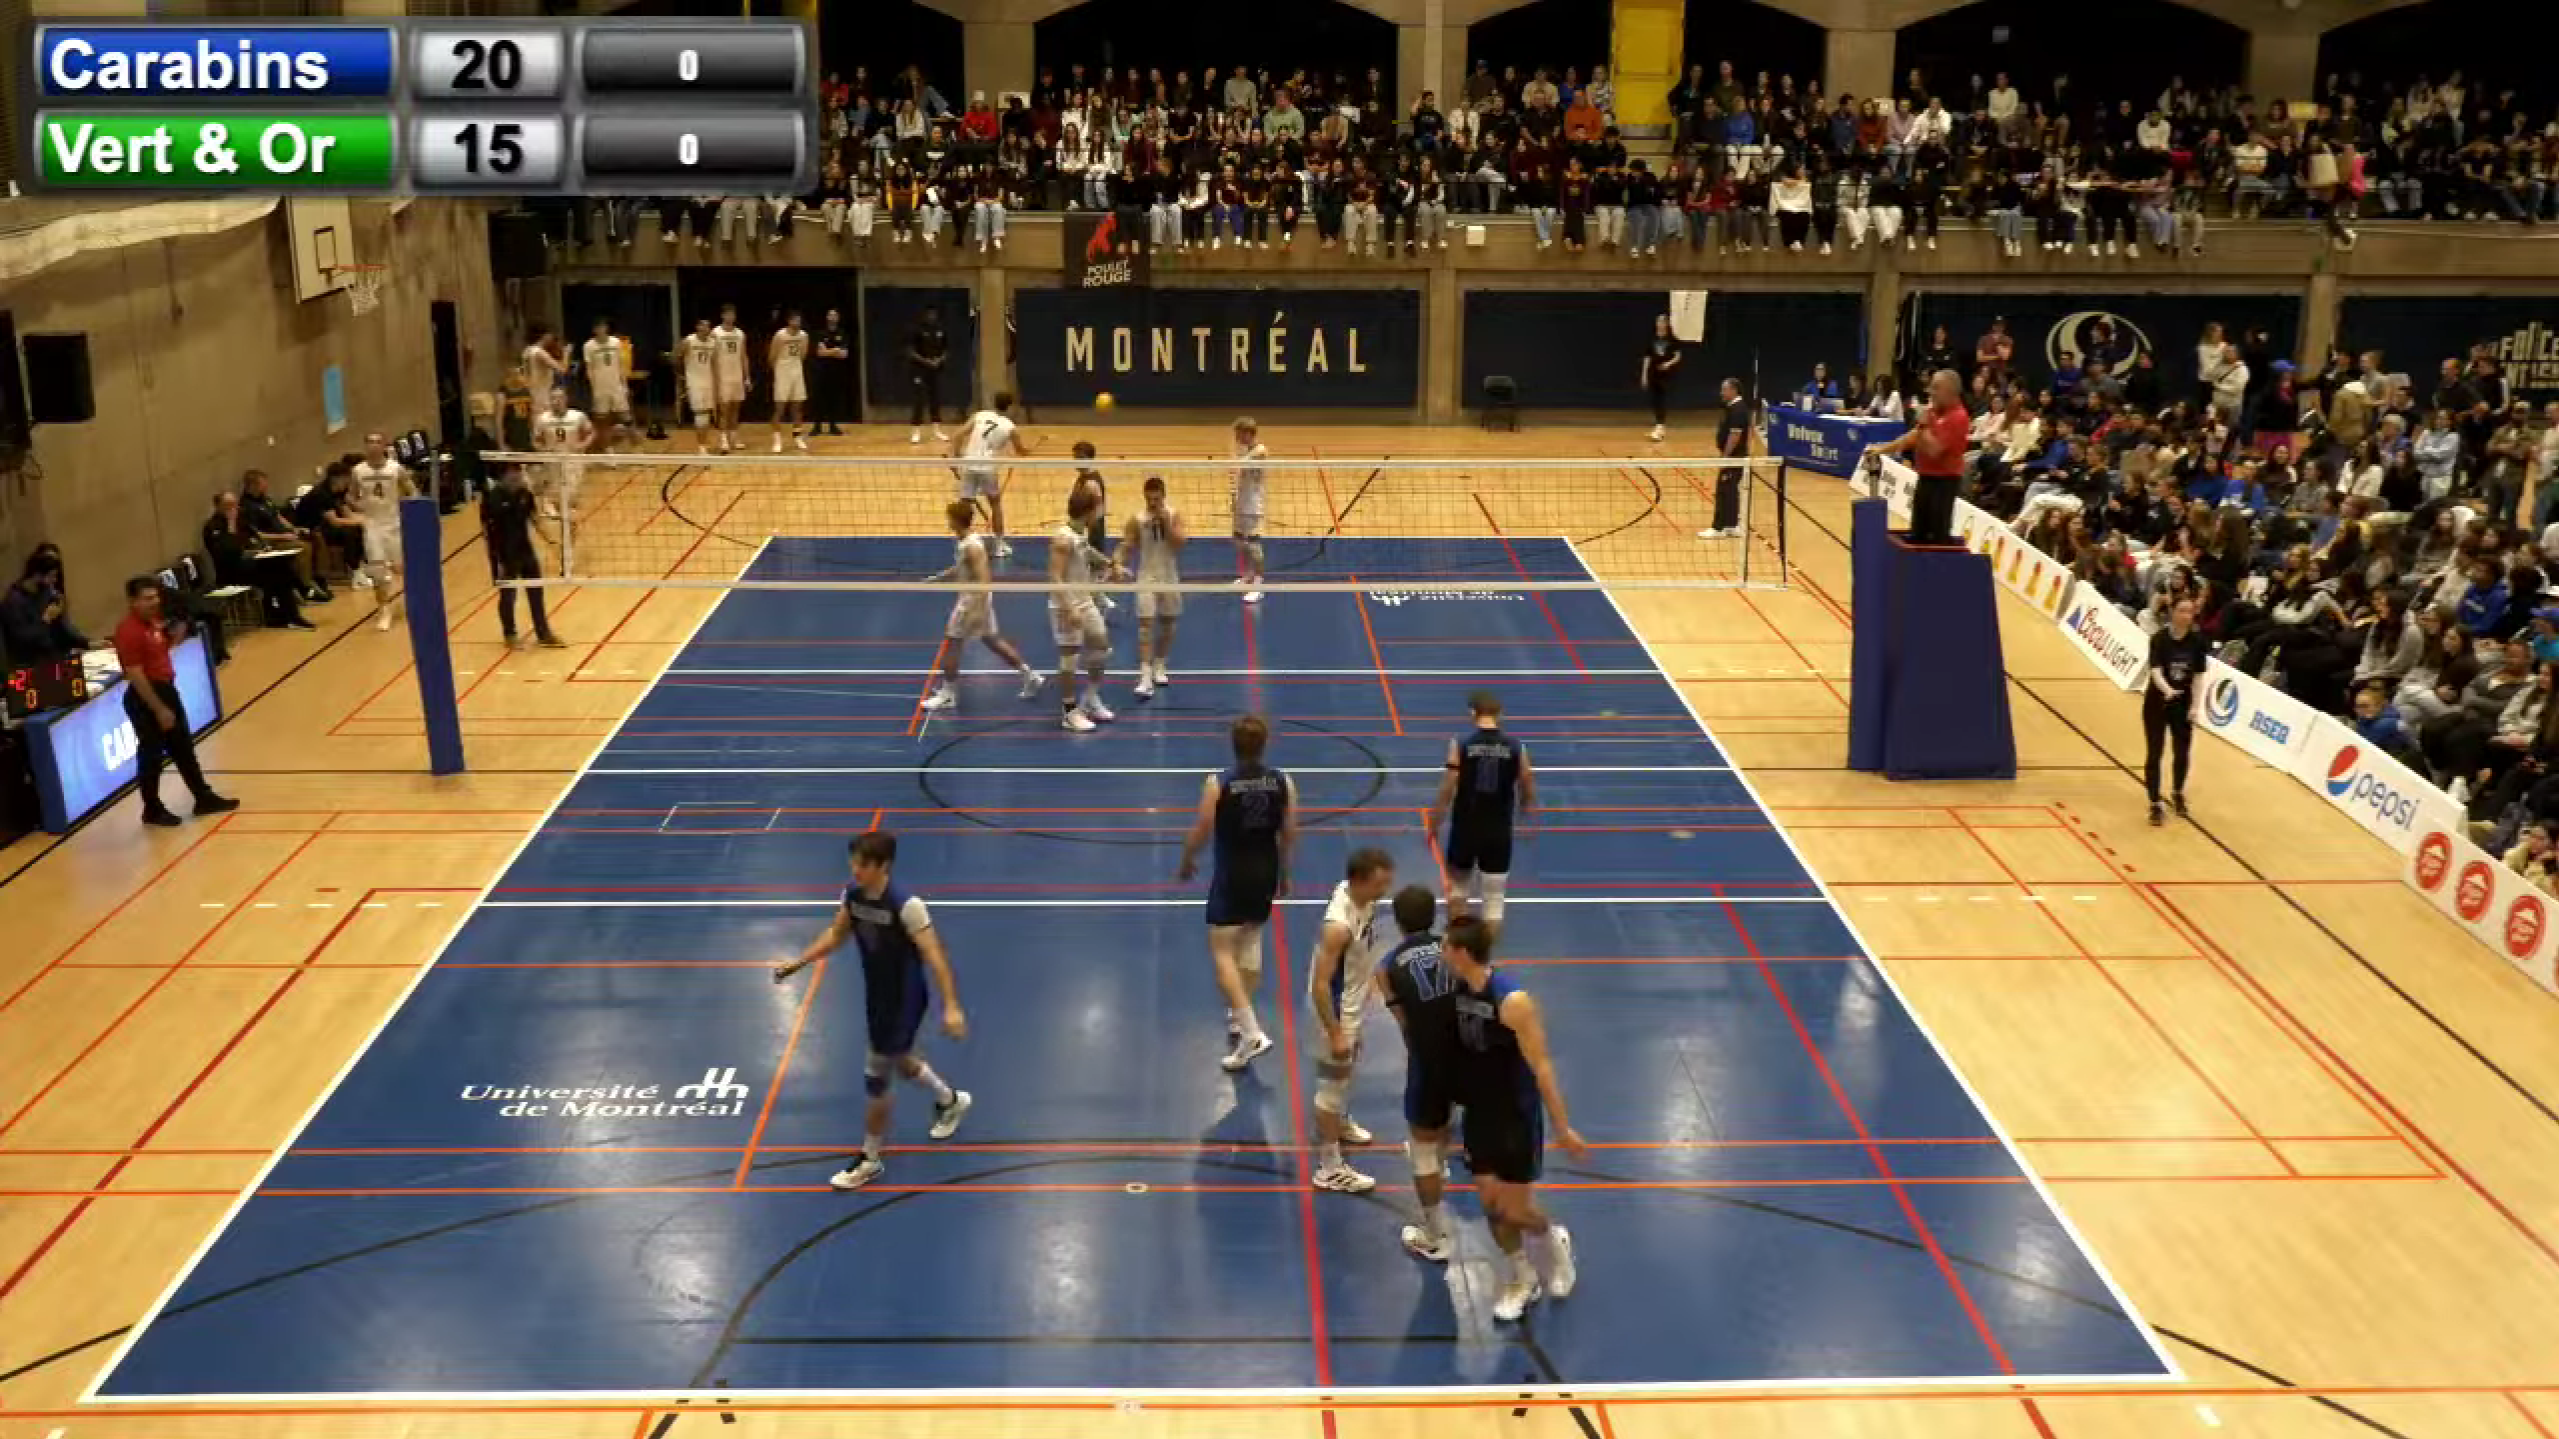Ball: (1090, 390, 1120, 418)
